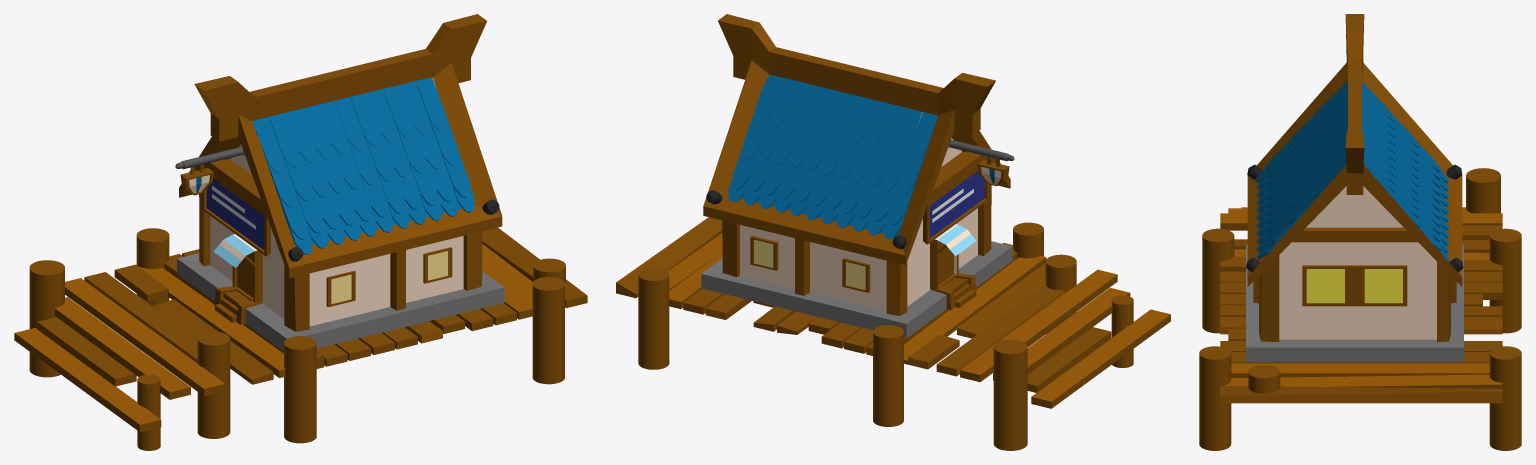
The model's file is fishercabin.fbx.
The picture shows the model from 3 angles, left to right: view 1: azimuth 30°, elevation 25°; view 2: azimuth 150°, elevation 25°; view 3: azimuth 270°, elevation 25°; orthographic projection. The views are drawn at different scales.
Visible parts, largest first — view 1: Cube, Cube.001; view 2: Cube, Cube.001; view 3: Cube, Cube.001.
Part boxes in pixels (box(x1,y1,x2,y2)): Cube: box(175, 14, 504, 351); Cube.001: box(14, 227, 587, 450); Cube: box(701, 14, 1014, 338); Cube.001: box(616, 217, 1170, 450); Cube: box(1246, 14, 1463, 362); Cube.001: box(1199, 168, 1521, 450).
Bounding box in the file's own units: 1598 × 1070 × 1032.
